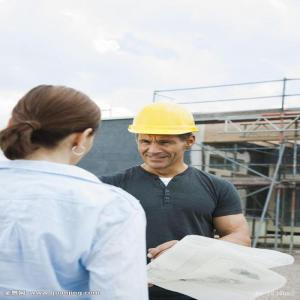none: (8, 82, 105, 175)
yellow: (127, 101, 201, 172)
